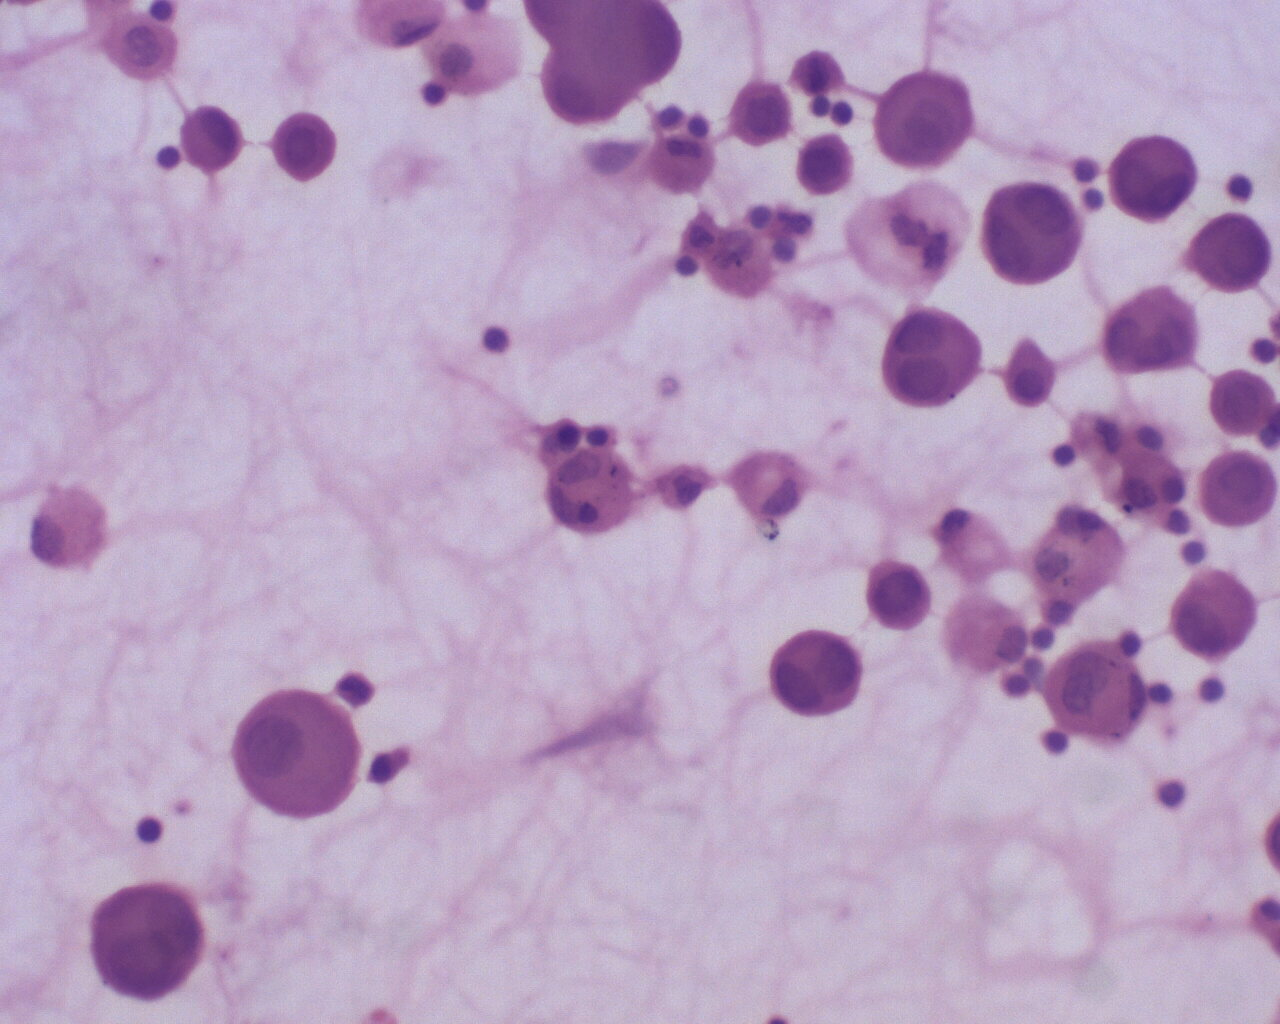ab: (228, 681, 375, 829), (83, 878, 209, 1004), (874, 64, 984, 173), (982, 174, 1086, 286), (883, 306, 985, 417), (766, 621, 864, 726), (1096, 129, 1198, 225), (1186, 206, 1273, 294), (1202, 365, 1280, 442), (863, 559, 939, 632), (727, 75, 798, 152), (796, 126, 863, 199)
lymph: (478, 318, 525, 362), (131, 814, 170, 850), (153, 138, 185, 174)
meso: (424, 11, 527, 102), (996, 339, 1069, 412)
